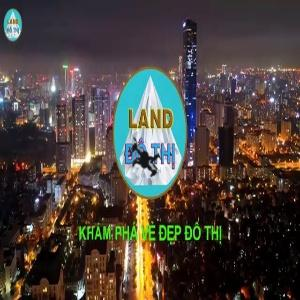drone: (100, 95, 209, 204)
